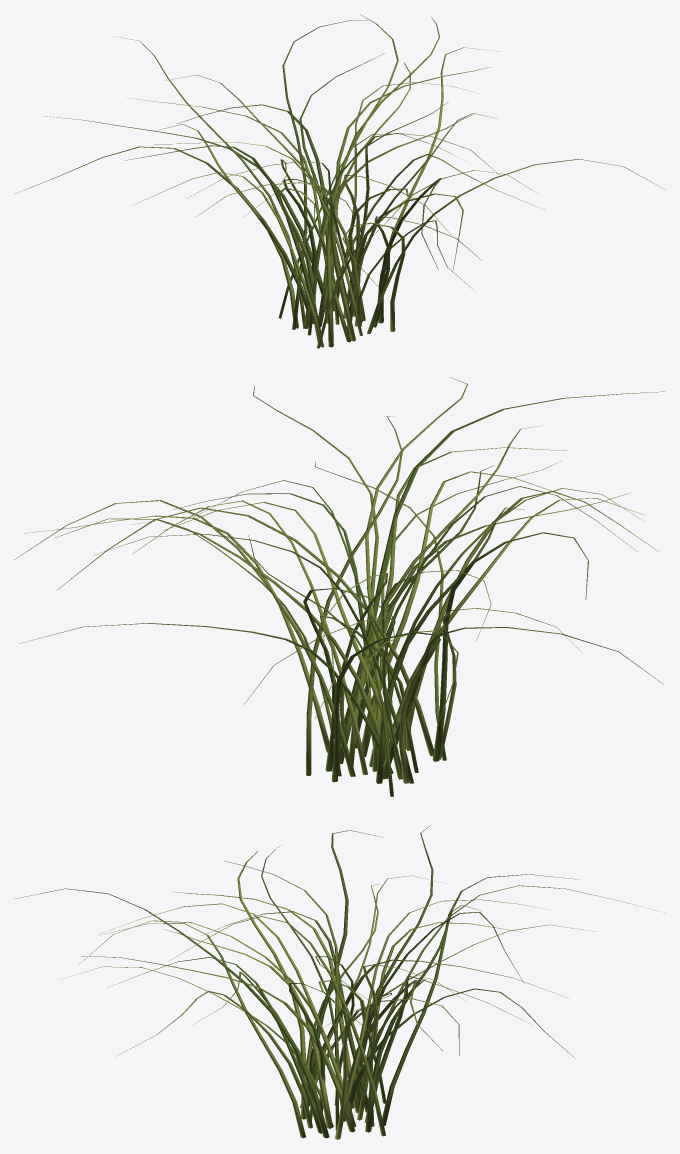
Rendered from filament-1.glb.
3 views of the same model, one above another, from view 1: azimuth 30°, elevation 25°; view 2: azimuth 150°, elevation 25°; view 3: azimuth 270°, elevation 25° (orthographic). The views are drawn at different scales.
Visible parts, largest first — view 1: Filament_1; view 2: Filament_1; view 3: Filament_1.
Part boxes in pixels (x1,y1,x2,y2): Filament_1: [14, 14, 664, 348]; Filament_1: [14, 377, 664, 796]; Filament_1: [14, 825, 665, 1139].
Bounding box in the file's own units: 1.48 × 0.6418 × 1.7.
